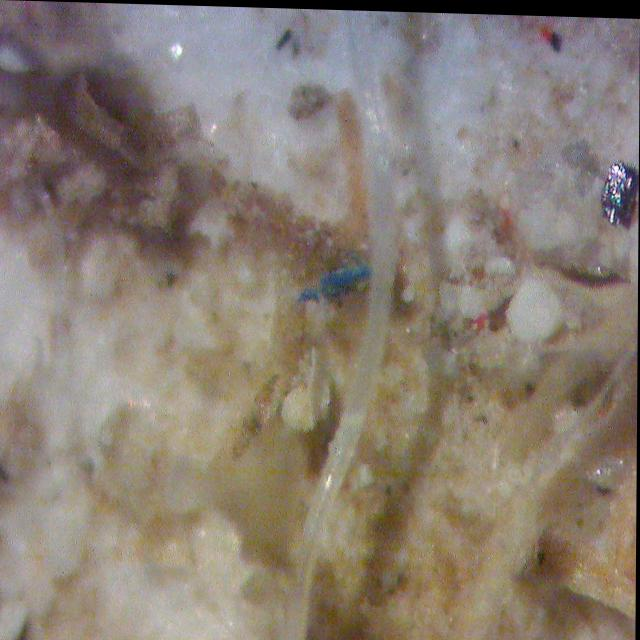microplastic: (294, 255, 373, 311)
